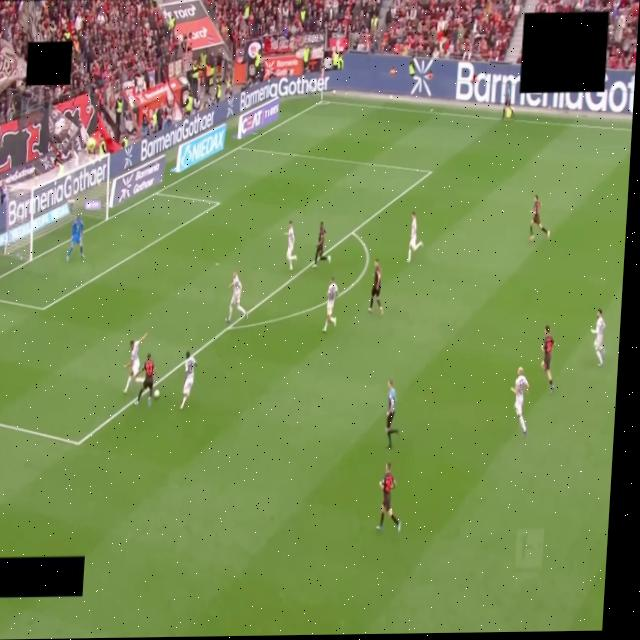ball: (154, 389, 160, 397)
player: (377, 463, 401, 531), (125, 334, 146, 393), (511, 368, 529, 435), (226, 270, 247, 323), (135, 354, 155, 405), (529, 195, 550, 240), (542, 326, 555, 392), (181, 352, 196, 409), (323, 278, 338, 332), (369, 259, 383, 315), (67, 215, 84, 261), (407, 212, 422, 263), (592, 309, 605, 366), (314, 222, 330, 267), (285, 221, 296, 269)
referee: (386, 380, 398, 449)
